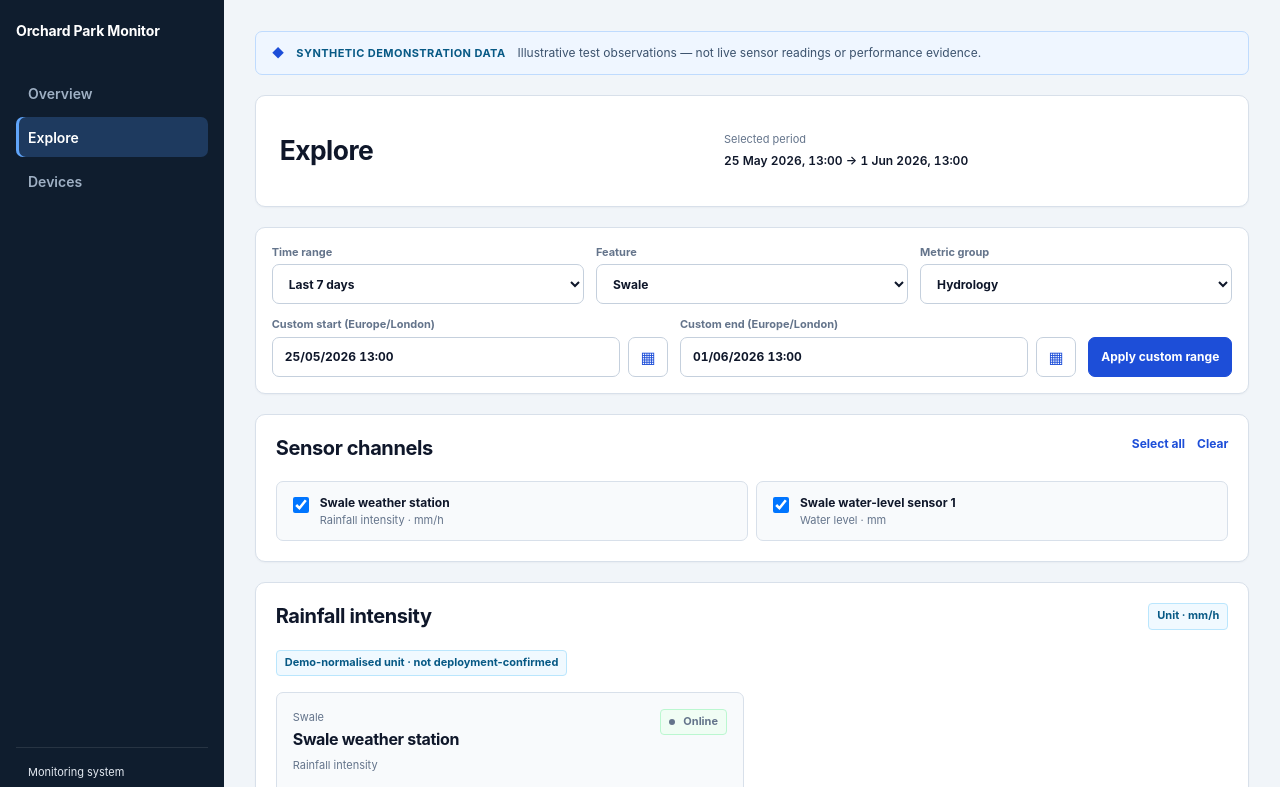
monitoring dashboard › persists the selected period and filters when navigating to Devices
Expected: the heading "Explore" is shown, 280,135 -> 373,166
Click the link "Devices" at (55, 181), box 28,172 -> 82,190
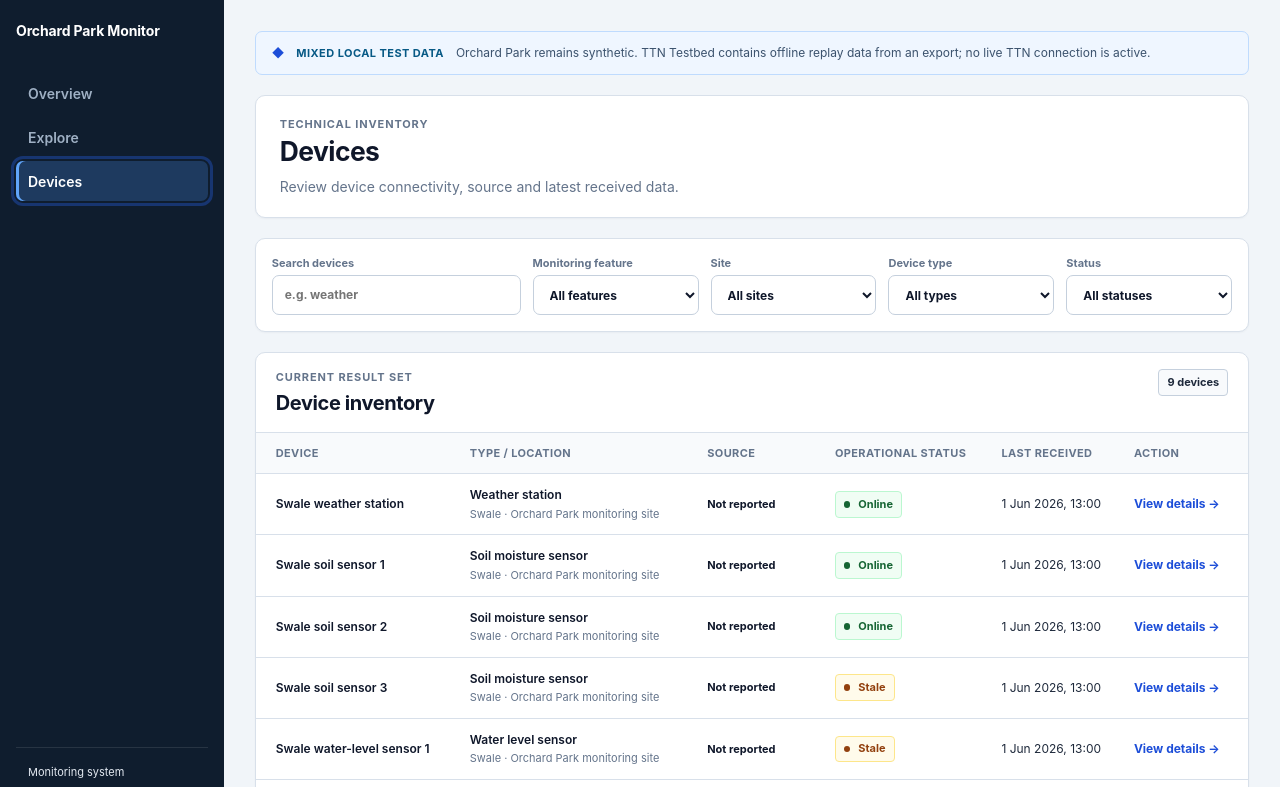
Now the heading "Devices" is shown, box 280,136 -> 379,168
